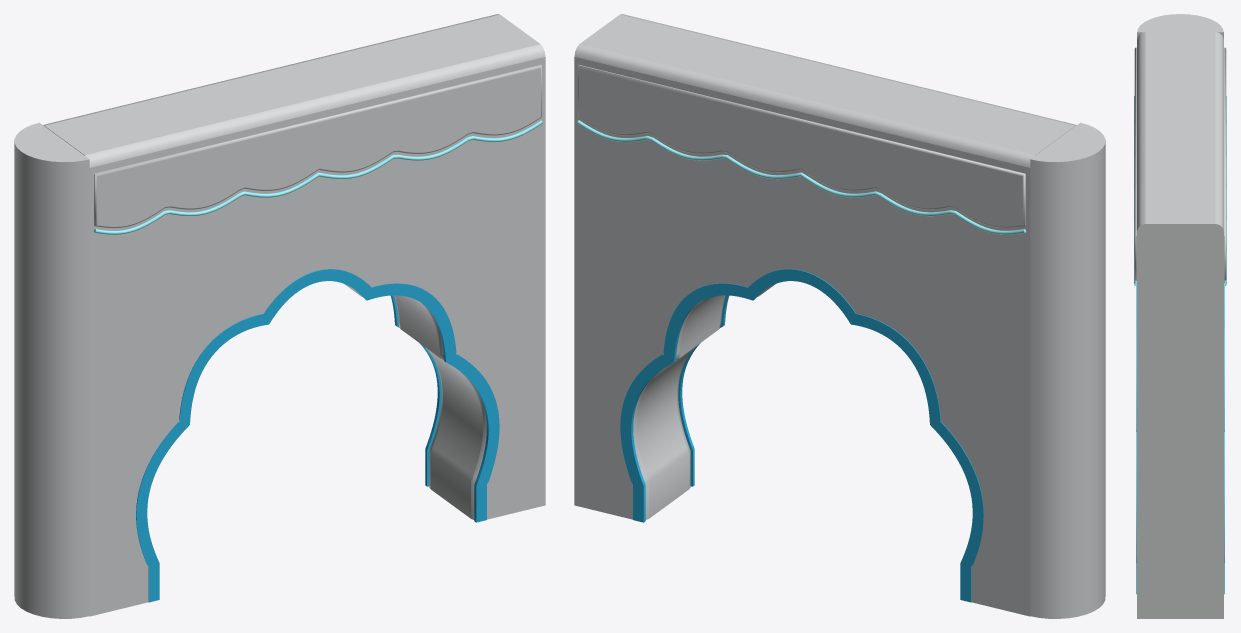
File: Arch_R2D04_CloudLobes.fbx
The picture shows the model from 3 angles, left to right: view 1: azimuth 30°, elevation 25°; view 2: azimuth 150°, elevation 25°; view 3: azimuth 270°, elevation 25°; orthographic projection. The views are drawn at different scales.
Parts seen in each view (by area): view 1: Arch_R2D04_CloudLobes; view 2: Arch_R2D04_CloudLobes; view 3: Arch_R2D04_CloudLobes.
Boxes of the visible parts, left/top/right/bottom form: Arch_R2D04_CloudLobes: left=14, top=14, right=545, bottom=618; Arch_R2D04_CloudLobes: left=574, top=14, right=1105, bottom=618; Arch_R2D04_CloudLobes: left=1134, top=14, right=1226, bottom=618.
Size of the model in its own units: 2.29 by 2.01 by 0.428.
